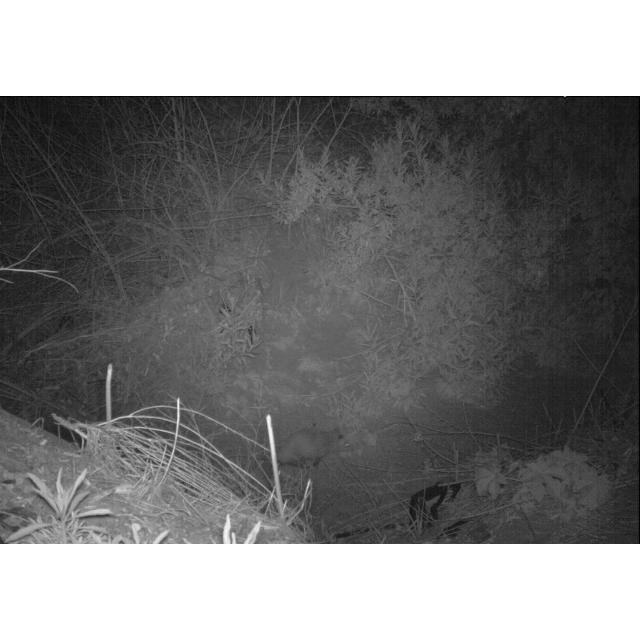animals: (264, 419, 350, 476)
